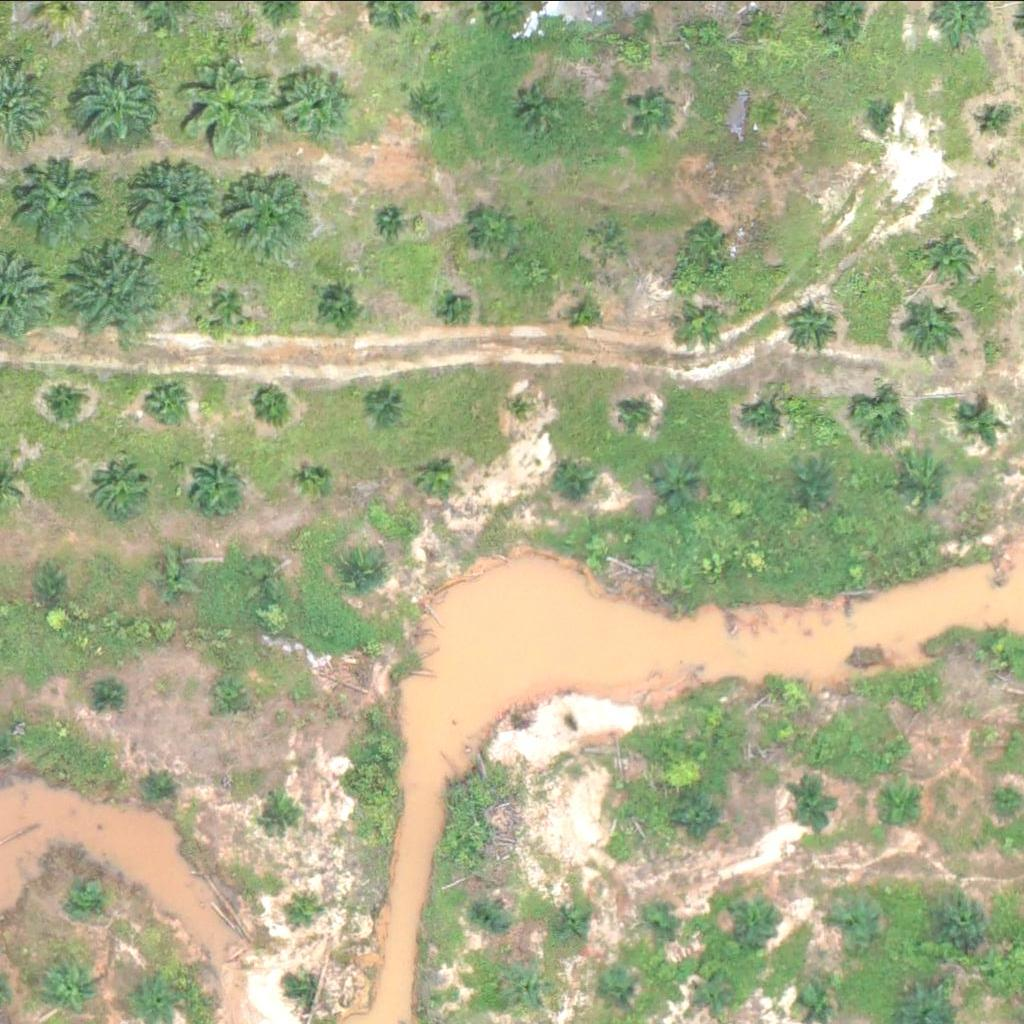Kelapa_Sawit: (173, 55, 274, 155), (65, 237, 166, 337), (274, 60, 362, 148), (223, 169, 311, 257), (131, 157, 219, 245), (18, 150, 106, 238), (63, 61, 151, 148), (829, 886, 892, 949), (918, 228, 981, 291), (189, 456, 252, 518), (900, 295, 963, 357), (936, 892, 987, 942), (683, 211, 734, 261), (92, 465, 143, 515), (677, 298, 728, 348), (416, 452, 467, 502), (149, 549, 200, 599), (727, 891, 777, 941), (47, 959, 97, 1009), (133, 973, 183, 1023), (748, 390, 798, 440), (857, 392, 907, 442), (790, 303, 840, 353), (791, 778, 841, 828), (881, 780, 931, 830), (623, 83, 673, 133), (516, 83, 566, 133), (402, 76, 452, 126), (472, 203, 522, 253), (312, 284, 362, 334), (656, 456, 706, 506), (676, 787, 726, 837), (203, 281, 253, 331), (139, 376, 189, 426), (907, 454, 957, 504), (962, 405, 1000, 443), (900, 681, 938, 719), (775, 675, 813, 713), (557, 464, 595, 502), (34, 571, 72, 609), (635, 897, 673, 935), (548, 897, 586, 935), (473, 898, 511, 936), (71, 879, 109, 916), (973, 99, 1011, 136), (975, 628, 1013, 665), (749, 94, 786, 132), (594, 220, 631, 258), (301, 461, 338, 499), (795, 465, 833, 502), (45, 384, 83, 421), (89, 671, 126, 709), (264, 796, 302, 833), (247, 554, 284, 592), (249, 382, 287, 419), (288, 892, 326, 929), (510, 970, 548, 1007), (602, 965, 640, 1002), (698, 975, 736, 1012), (743, 2, 781, 39), (373, 386, 410, 423), (345, 554, 382, 591), (137, 774, 174, 811), (215, 677, 252, 714), (802, 984, 839, 1021), (294, 981, 320, 1006), (870, 105, 895, 130), (443, 297, 468, 322), (573, 304, 598, 329), (512, 392, 537, 417), (624, 398, 649, 423), (379, 210, 404, 234)
